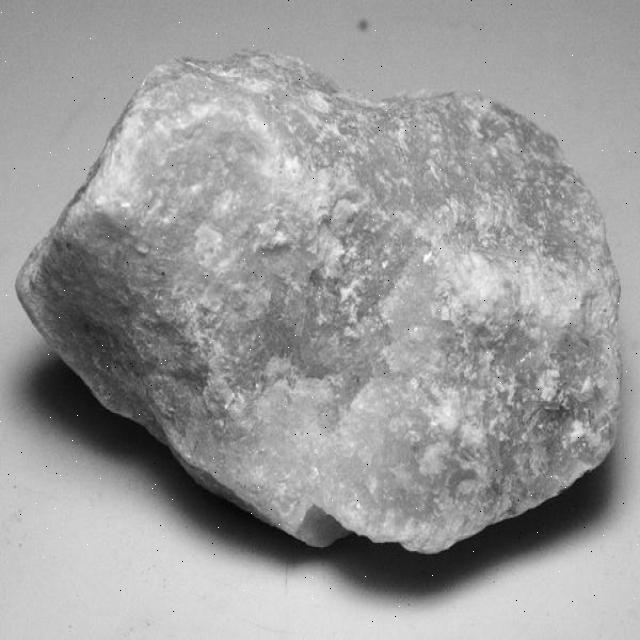Metamorphic: (14, 28, 629, 554)
